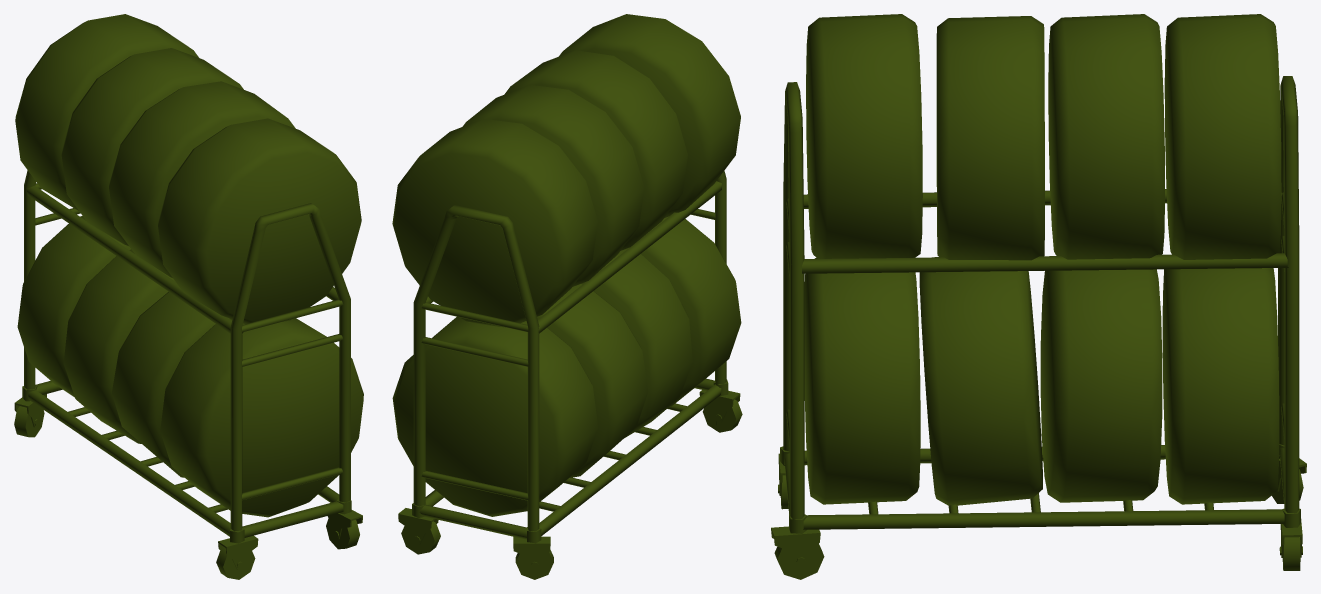
File: Trolley_Tires01_M.fbx
3 renders of one model, left to right at view 1: azimuth 30°, elevation 25°; view 2: azimuth 150°, elevation 25°; view 3: azimuth 270°, elevation 25°, orthographic. The views are drawn at different scales.
Visible parts, largest first — view 1: Trolley_Tires01A, Trolley_Tires01B, Tire_warmers_troll, Trolley_Tires01_Wheel_2, Trolley_Tires01_Wheel_4, Trolley_Tires01_Wheel_1; view 2: Trolley_Tires01A, Trolley_Tires01B, Tire_warmers_troll, Trolley_Tires01_Wheel_1, Trolley_Tires01_Wheel_3, Trolley_Tires01_Wheel_2; view 3: Trolley_Tires01A, Trolley_Tires01B, Tire_warmers_troll, Trolley_Tires01_Wheel_4, Trolley_Tires01_Wheel_3.
Boxes of the visible parts, x1,y1,x2,y2 form: Trolley_Tires01A: [15, 14, 361, 324]; Trolley_Tires01B: [17, 216, 363, 517]; Tire_warmers_troll: [24, 170, 350, 537]; Trolley_Tires01_Wheel_2: [216, 528, 258, 579]; Trolley_Tires01_Wheel_4: [326, 497, 362, 549]; Trolley_Tires01_Wheel_1: [14, 385, 46, 437]; Trolley_Tires01A: [392, 14, 740, 327]; Trolley_Tires01B: [392, 216, 741, 516]; Tire_warmers_troll: [413, 171, 726, 539]; Trolley_Tires01_Wheel_1: [513, 527, 553, 579]; Trolley_Tires01_Wheel_3: [398, 502, 440, 554]; Trolley_Tires01_Wheel_2: [699, 379, 742, 432]; Trolley_Tires01A: [806, 14, 1281, 260]; Trolley_Tires01B: [804, 257, 1279, 505]; Tire_warmers_troll: [783, 76, 1299, 529]; Trolley_Tires01_Wheel_4: [771, 514, 824, 579]; Trolley_Tires01_Wheel_3: [1279, 508, 1302, 570].
Bounding box in the file's own units: 0.2156 × 0.4754 × 0.4483.
